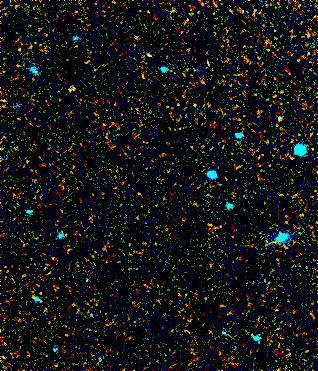star: (57, 75, 87, 105)
